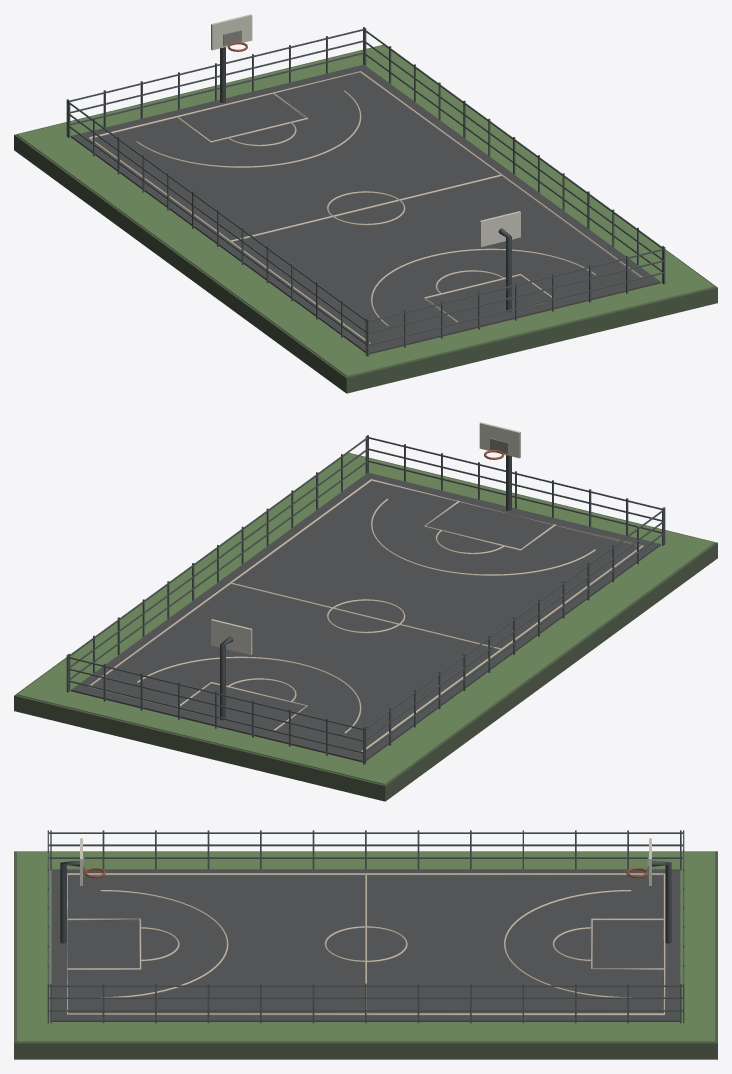
File: basketball-court.glb
3 views of the same model, one above another, from view 1: azimuth 30°, elevation 25°; view 2: azimuth 150°, elevation 25°; view 3: azimuth 270°, elevation 25° (orthographic). The views are drawn at different scales.
Size of the model in its own units: 7.8 by 2.18 by 12.1.
